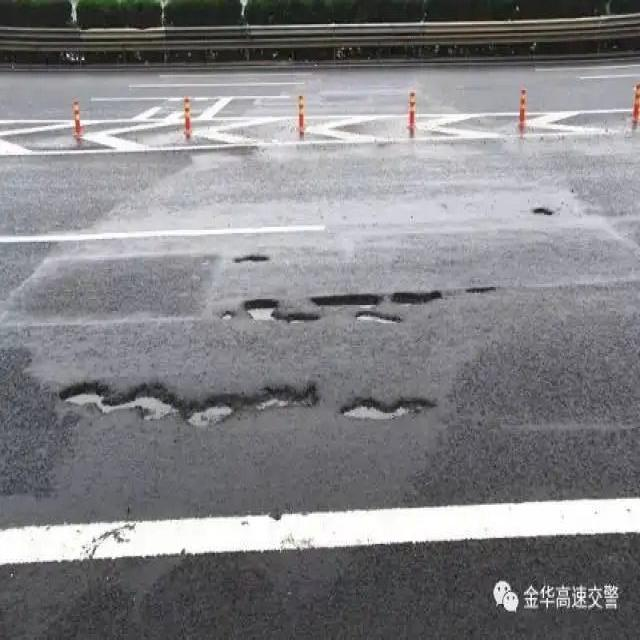Pothole: (189, 386, 317, 428), (59, 386, 179, 424), (243, 296, 322, 329), (340, 398, 435, 421), (312, 290, 382, 308), (354, 306, 405, 329), (223, 249, 265, 275), (390, 291, 446, 305), (464, 280, 497, 294), (220, 306, 231, 323), (529, 209, 554, 216)
